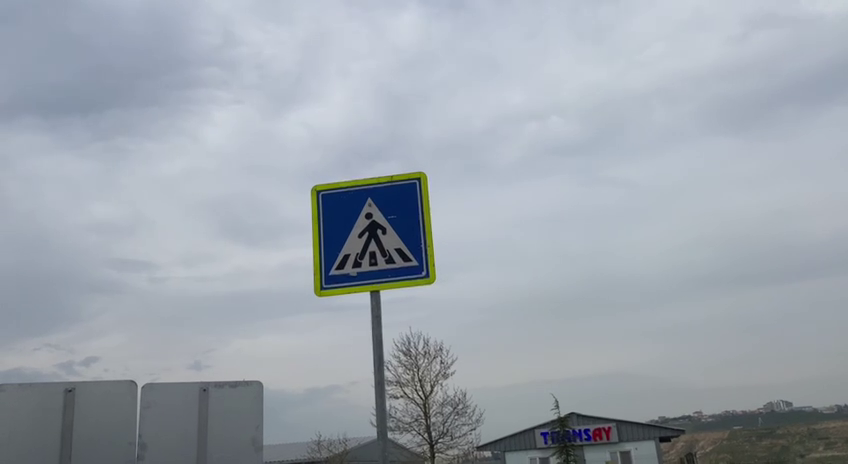pedestrianCrossing: (308, 169, 438, 298)
